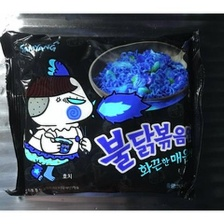snack: (0, 20, 210, 208)
